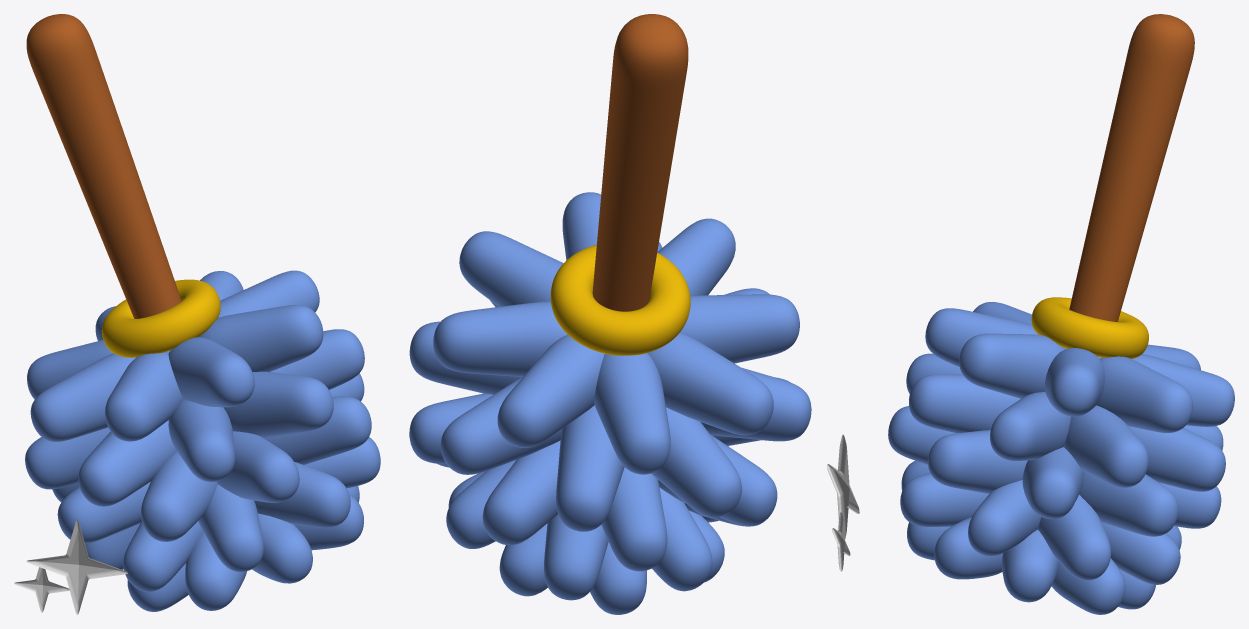
File: 15. Toilet Brush.gltf
3 renders of one model, left to right at view 1: azimuth 30°, elevation 25°; view 2: azimuth 150°, elevation 25°; view 3: azimuth 270°, elevation 25°, orthographic. The views are drawn at different scales.
Parts seen in each view (by area): view 1: Plane.039, Plane.021, Plane.020, Plane.022, Plane.023, Plane.026, Circle.010, Plane.051; view 2: Plane.039, Plane.021, Plane.020, Plane.022, Plane.023, Circle.010, Plane.026, Plane.051; view 3: Plane.039, Plane.021, Plane.020, Plane.022, Plane.023, Plane.026, Circle.010.
Boxes of the visible parts, left/top/right/bottom form: Plane.039: left=27, top=270, right=323, bottom=441; Plane.021: left=25, top=329, right=364, bottom=506; Plane.020: left=26, top=14, right=181, bottom=318; Plane.022: left=52, top=373, right=371, bottom=543; Plane.023: left=85, top=437, right=380, bottom=591; Plane.026: left=127, top=486, right=363, bottom=611; Circle.010: left=101, top=279, right=220, bottom=357; Plane.051: left=14, top=519, right=127, bottom=614; Plane.039: left=433, top=192, right=799, bottom=474; Plane.021: left=409, top=242, right=811, bottom=531; Plane.020: left=592, top=14, right=688, bottom=311; Plane.022: left=409, top=377, right=789, bottom=571; Plane.023: left=437, top=446, right=759, bottom=600; Circle.010: left=550, top=245, right=690, bottom=355; Plane.026: left=448, top=471, right=724, bottom=614; Plane.051: left=827, top=434, right=859, bottom=571; Plane.039: left=925, top=302, right=1234, bottom=432; Plane.021: left=906, top=353, right=1225, bottom=491; Plane.020: left=1069, top=14, right=1194, bottom=321; Plane.022: left=888, top=406, right=1221, bottom=536; Plane.023: left=900, top=460, right=1181, bottom=584; Plane.026: left=907, top=517, right=1155, bottom=614; Circle.010: left=1031, top=297, right=1148, bottom=358.
Bounding box in the file's own units: 3.2 × 4.82 × 2.8.
